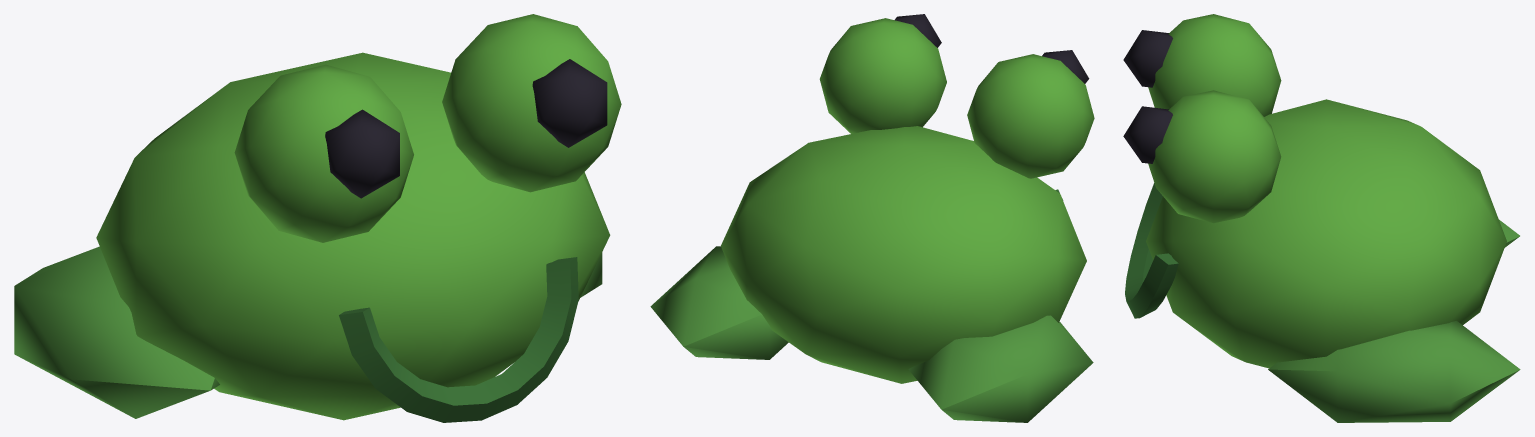
The model's file is frog.fbx.
3 renders of one model, left to right at view 1: azimuth 30°, elevation 25°; view 2: azimuth 150°, elevation 25°; view 3: azimuth 270°, elevation 25°, orthographic. The views are drawn at different scales.
Parts seen in each view (by area): view 1: Body, Head; view 2: Body, Head; view 3: Body, Head.
Boxes of the visible parts, x1=… form: Body: x1=14, y1=52, x2=610, y2=420; Head: x1=234, y1=14, x2=621, y2=422; Body: x1=650, y1=126, x2=1093, y2=422; Head: x1=819, y1=14, x2=1094, y2=200; Body: x1=1146, y1=99, x2=1520, y2=422; Head: x1=1123, y1=14, x2=1281, y2=318.
Size of the model in its own units: 0.2116 by 0.146 by 0.176.
